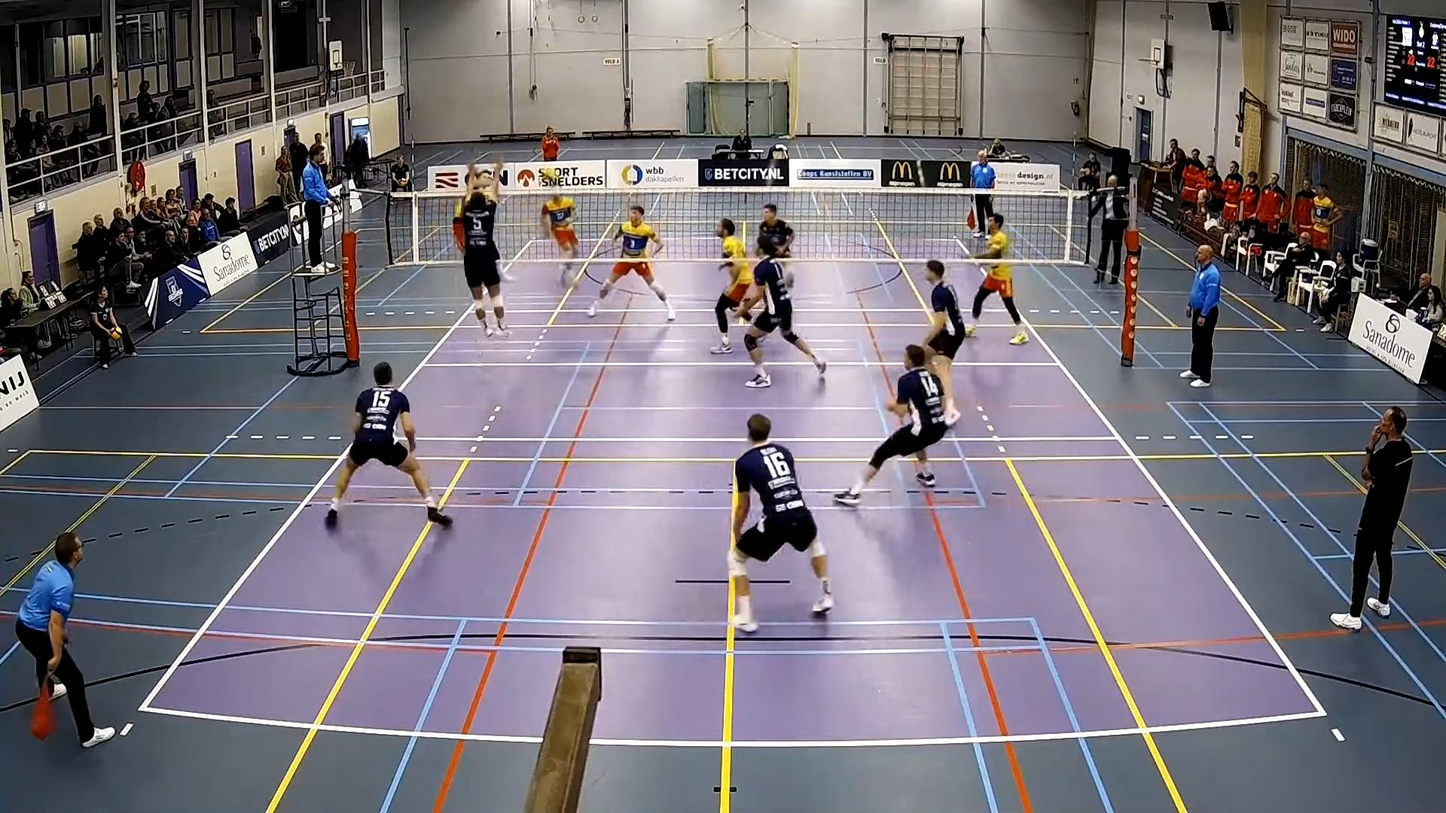Attack: (447, 161, 493, 260)
Block: (453, 161, 511, 343)
Player: (728, 414, 834, 632), (325, 362, 451, 526), (835, 345, 947, 505), (737, 234, 826, 388), (587, 205, 676, 320), (965, 214, 1028, 345), (923, 260, 965, 425), (710, 218, 752, 354), (542, 191, 578, 285), (758, 203, 795, 260), (758, 203, 794, 257)
